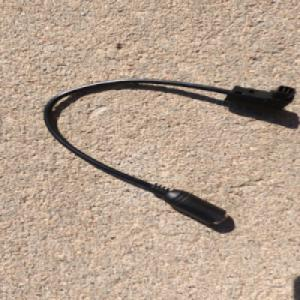Wire: (42, 77, 297, 226)
